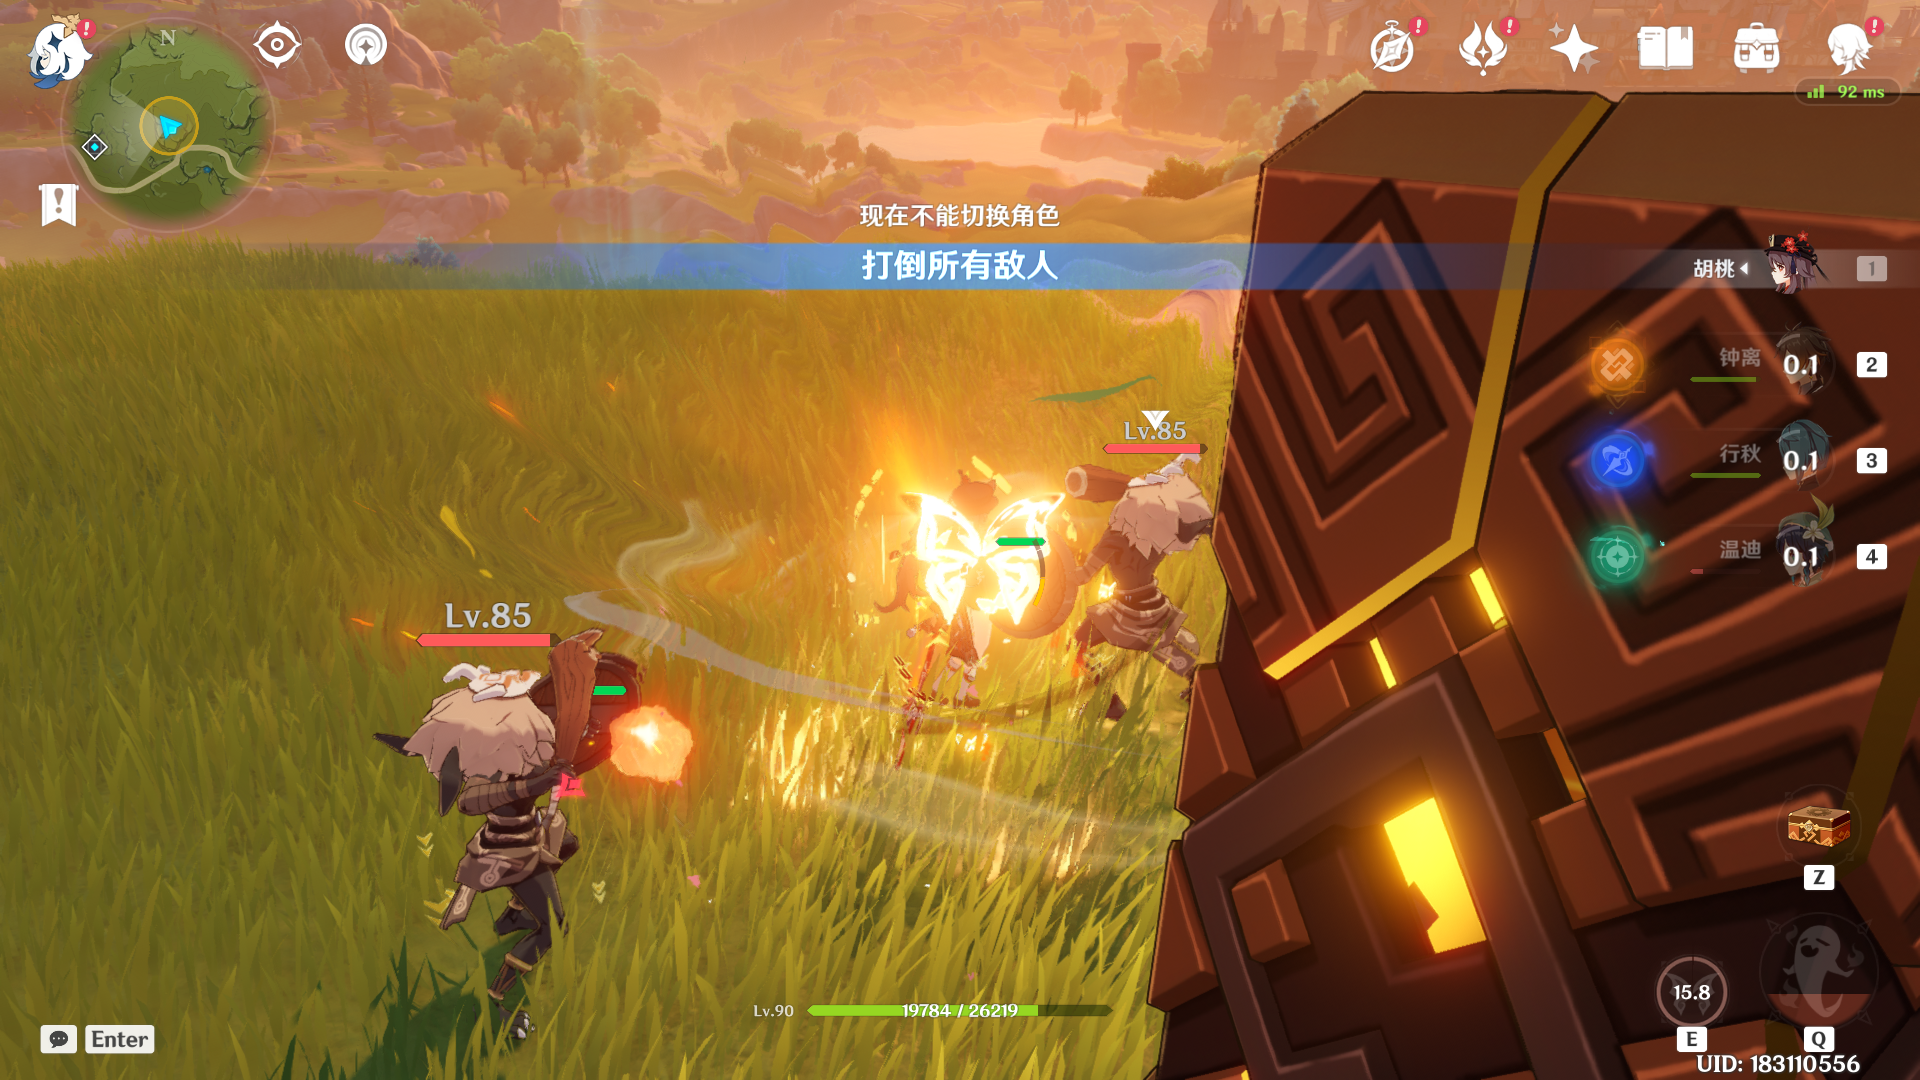hili: (382, 617, 711, 1080), (1022, 385, 1266, 764)
